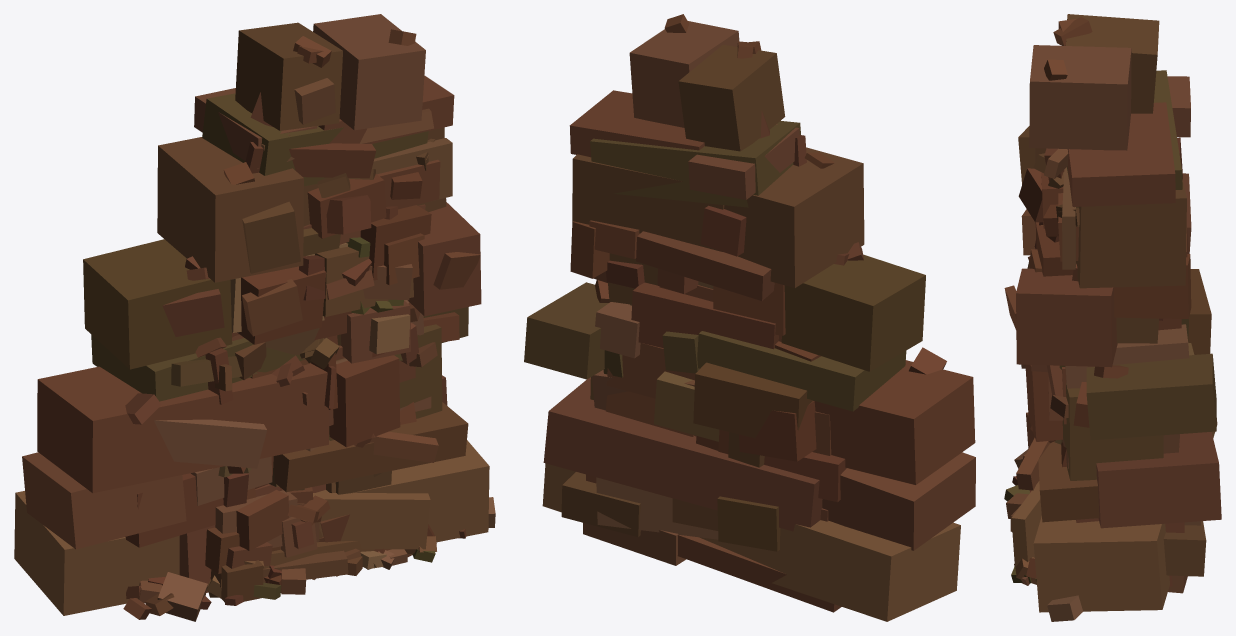
The model's file is arch_doan_mach.5019e50ae9.glb.
3 views of the same model, side by side, from view 1: azimuth 30°, elevation 25°; view 2: azimuth 150°, elevation 25°; view 3: azimuth 270°, elevation 25° (orthographic). The views are drawn at different scales.
Parts seen in each view (by area): view 1: dm_slab4, dm_slab2, dm_slab5, dm_slab1, dm_slab3, dm_slab0; view 2: dm_slab4, dm_slab2, dm_slab1, dm_slab5, dm_slab3, dm_slab0; view 3: dm_slab4, dm_slab5, dm_slab2, dm_slab1, dm_slab3.
Boxes of the visible parts, left/top/right/bottom form: dm_slab4: left=14, top=14, right=495, bottom=615; dm_slab2: left=123, top=93, right=442, bottom=619; dm_slab5: left=138, top=204, right=468, bottom=621; dm_slab1: left=215, top=259, right=416, bottom=602; dm_slab3: left=195, top=335, right=436, bottom=587; dm_slab0: left=206, top=392, right=407, bottom=598; dm_slab4: left=542, top=14, right=975, bottom=621; dm_slab2: left=561, top=120, right=841, bottom=612; dm_slab1: left=583, top=260, right=813, bottom=565; dm_slab5: left=524, top=221, right=831, bottom=529; dm_slab3: left=596, top=371, right=846, bottom=539; dm_slab0: left=672, top=380, right=780, bottom=551; dm_slab4: left=1004, top=14, right=1221, bottom=621; dm_slab5: left=1014, top=225, right=1216, bottom=586; dm_slab2: left=1006, top=70, right=1206, bottom=576; dm_slab1: left=1004, top=256, right=1211, bottom=593; dm_slab3: left=1010, top=255, right=1200, bottom=584.
Size of the model in its own units: 25.88 by 30.64 by 11.53.
